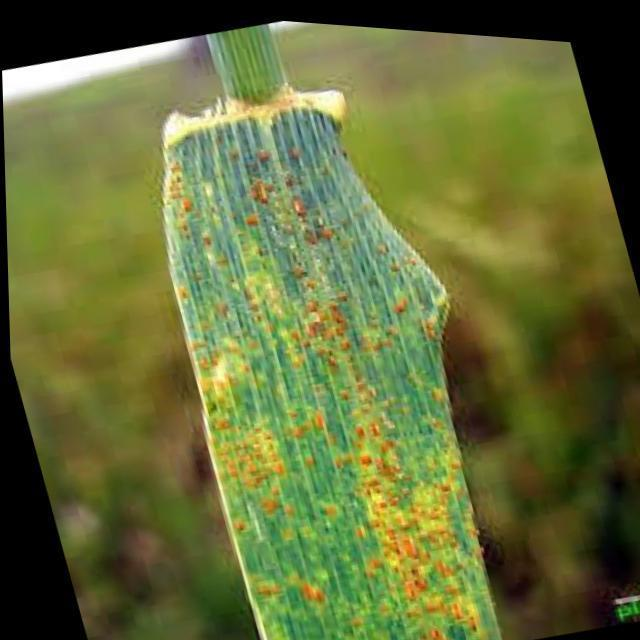Yellow Rust: (172, 108, 498, 635)
